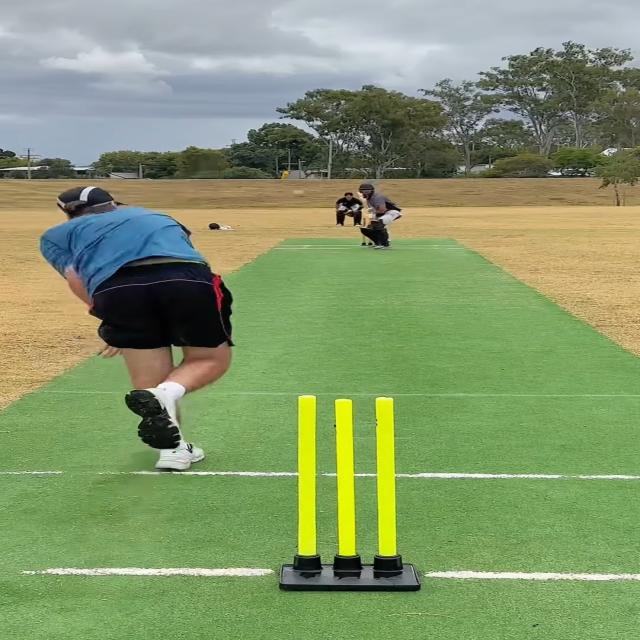ball: (291, 190, 307, 198)
stump: (274, 392, 421, 594)
